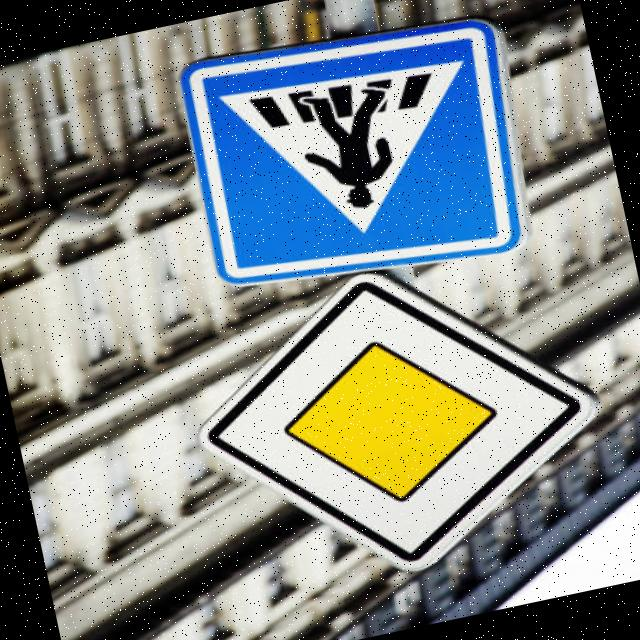crosswalk: (131, 0, 559, 319)
